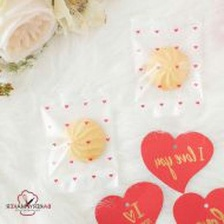snack: (124, 9, 213, 121), (34, 86, 123, 194)
